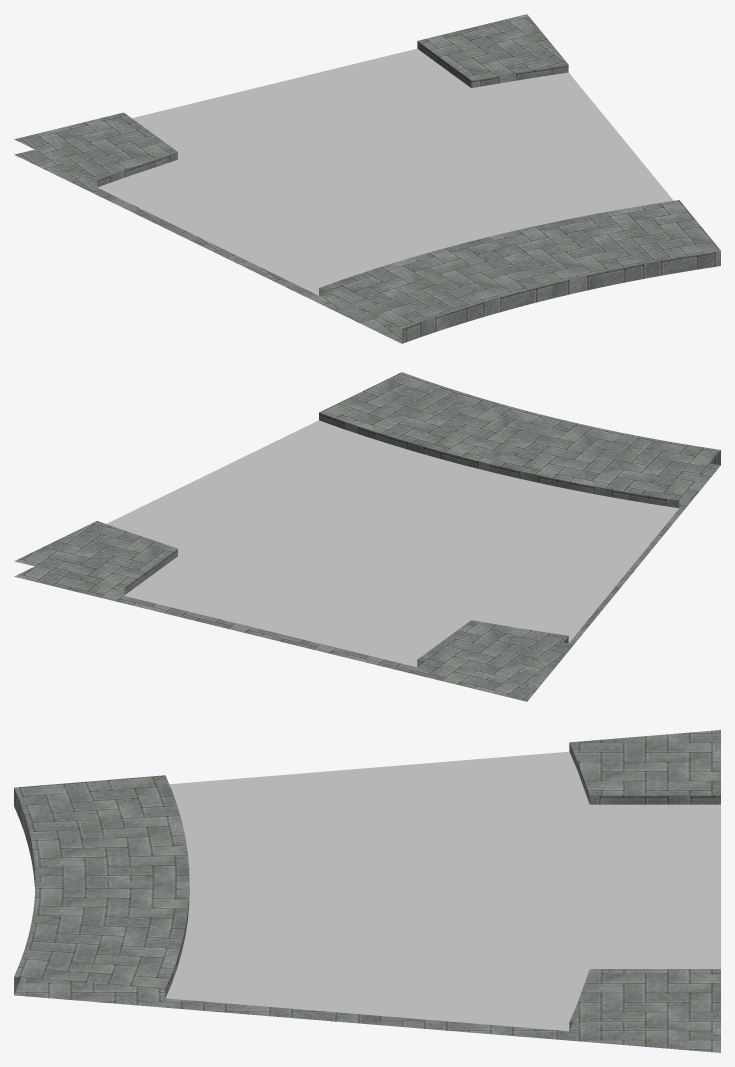
File: CurvedT.fbx
3 renders of one model, top to bottom at view 1: azimuth 30°, elevation 25°; view 2: azimuth 150°, elevation 25°; view 3: azimuth 270°, elevation 25°, orthographic. The views are drawn at different scales.
Visible parts, largest first — view 1: Plane; view 2: Plane; view 3: Plane.
Boxes of the visible parts, x1,y1,x2,y2 form: Plane: (14,14,720,343); Plane: (14,372,720,701); Plane: (14,730,720,1052).
Bounding box in the file's own units: 1400 × 40 × 1375.
